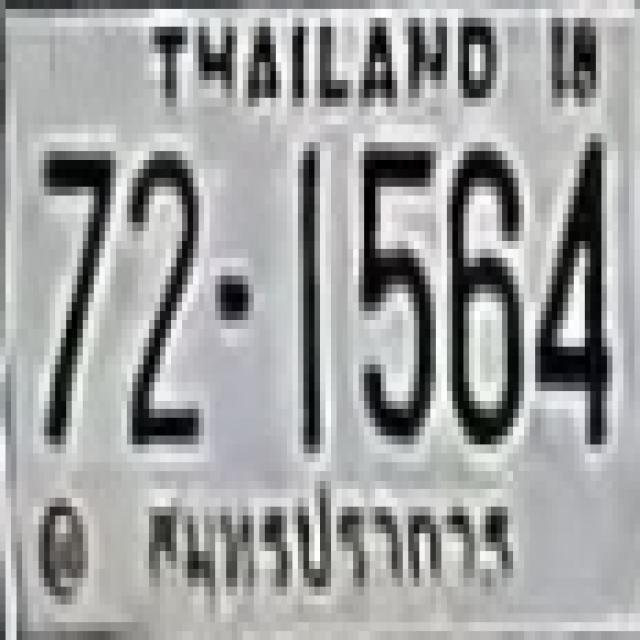1: (292, 147, 320, 449)
2: (124, 147, 196, 440)
4: (533, 129, 604, 440)
5: (353, 134, 430, 436)
6: (447, 138, 519, 440)
7: (39, 147, 110, 440)
SPK: (134, 482, 527, 612)
